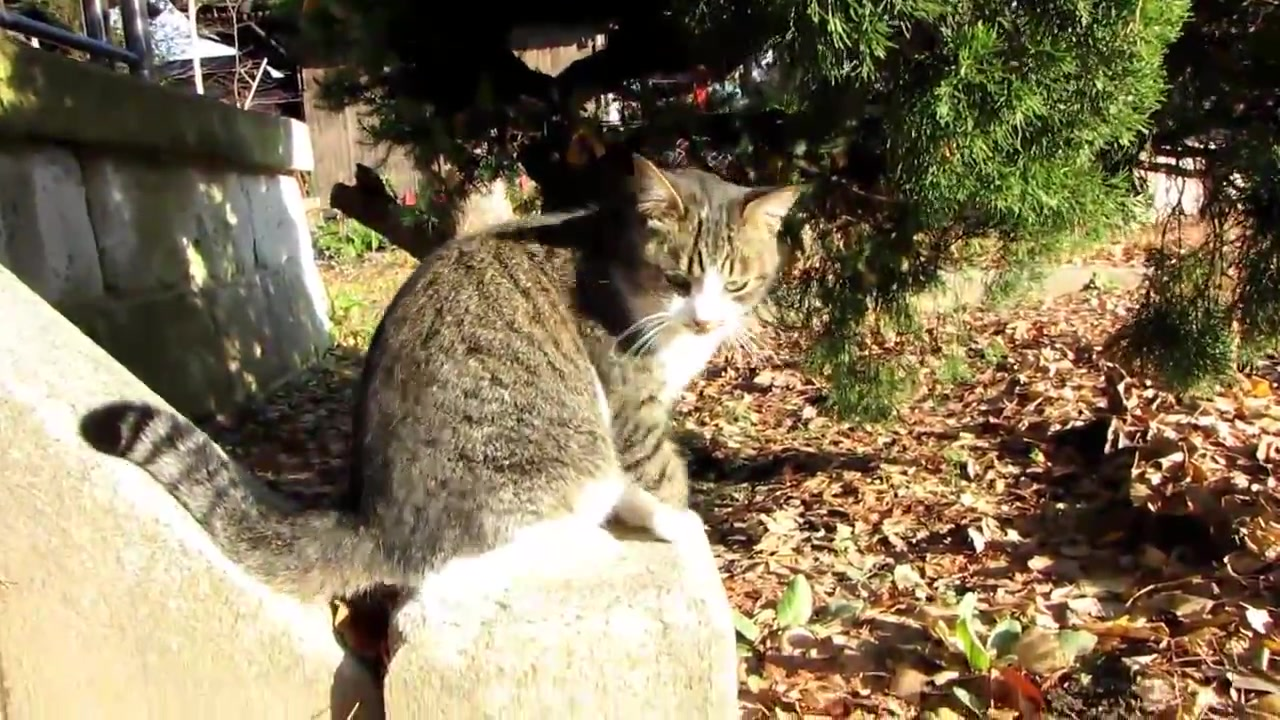cat: (78, 157, 808, 605)
